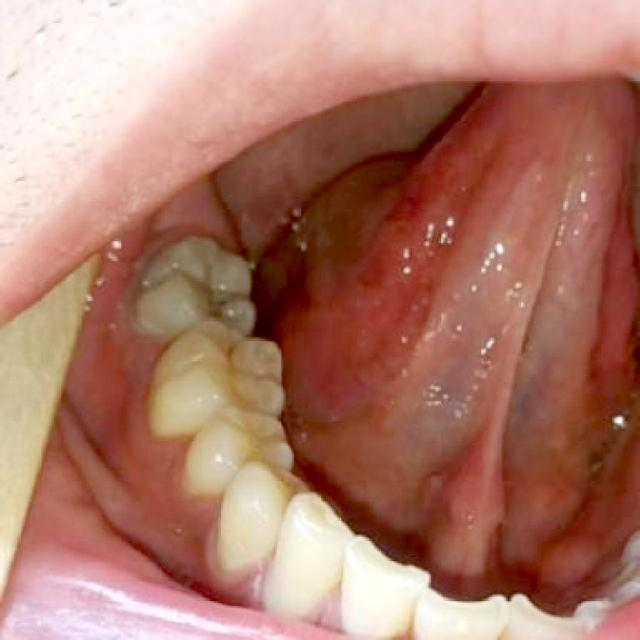Plaque: (181, 257, 246, 322), (223, 331, 282, 391)
